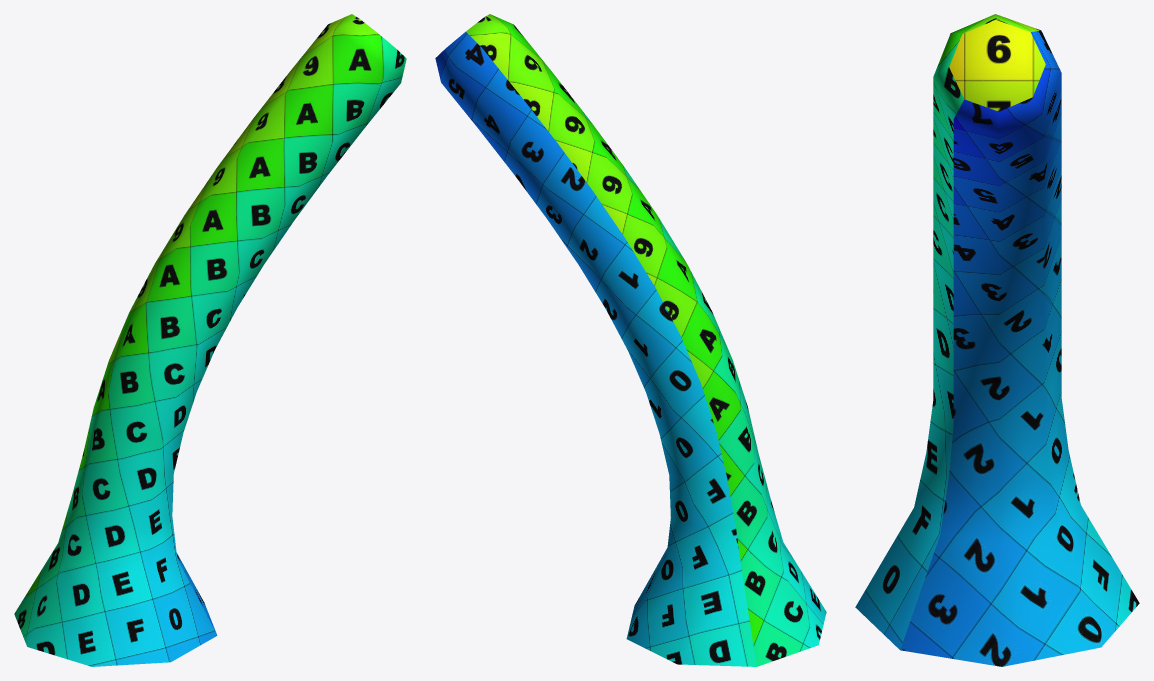
Rendered from Stem_Apple_txt_v01.fbx.
3 renders of one model, left to right at view 1: azimuth 30°, elevation 25°; view 2: azimuth 150°, elevation 25°; view 3: azimuth 270°, elevation 25°, orthographic. The views are drawn at different scales.
Visible parts, largest first — view 1: stem; view 2: stem; view 3: stem.
Part boxes in pixels (<box>): stem: <box>14,14,406,666</box>; stem: <box>435,14,826,666</box>; stem: <box>855,14,1139,666</box>.
Bounding box in the file's own units: 2.07 × 2.9 × 0.9987.
1 material, 1 textured.
